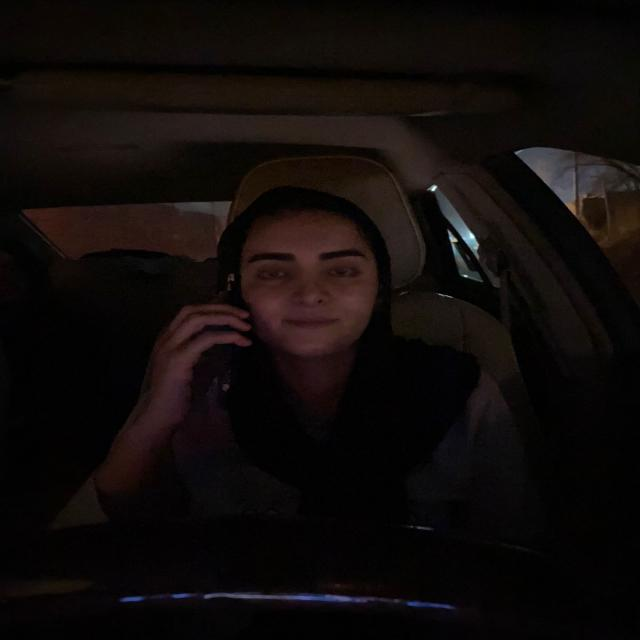person: (228, 196, 385, 364)
